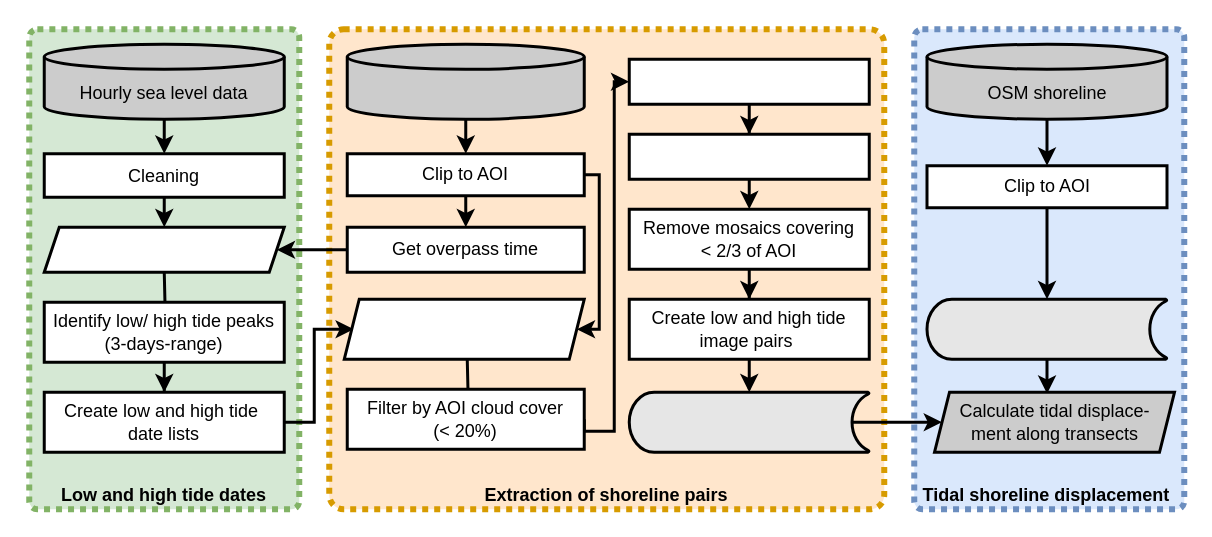
Some shapes in this 1212 by 537 pixel diagram are drawn without their labels. The shapes that lost their labels are listed below. From the top down, each one's box as (x1, y1, x2, y2) in pixels, then its label:
(345, 42, 585, 120): Landsat SR archive
(627, 57, 870, 105): Cloud masking
(627, 132, 870, 180): Create daily mosaics
(42, 225, 285, 273): Filter by LS aquisition hour
(342, 297, 585, 360): Filter by date lists
(925, 297, 1168, 360): Create shore-normal transects (see Fig. 3)
(627, 390, 870, 453): Extract smooth shorelines (see Fig. 3)
